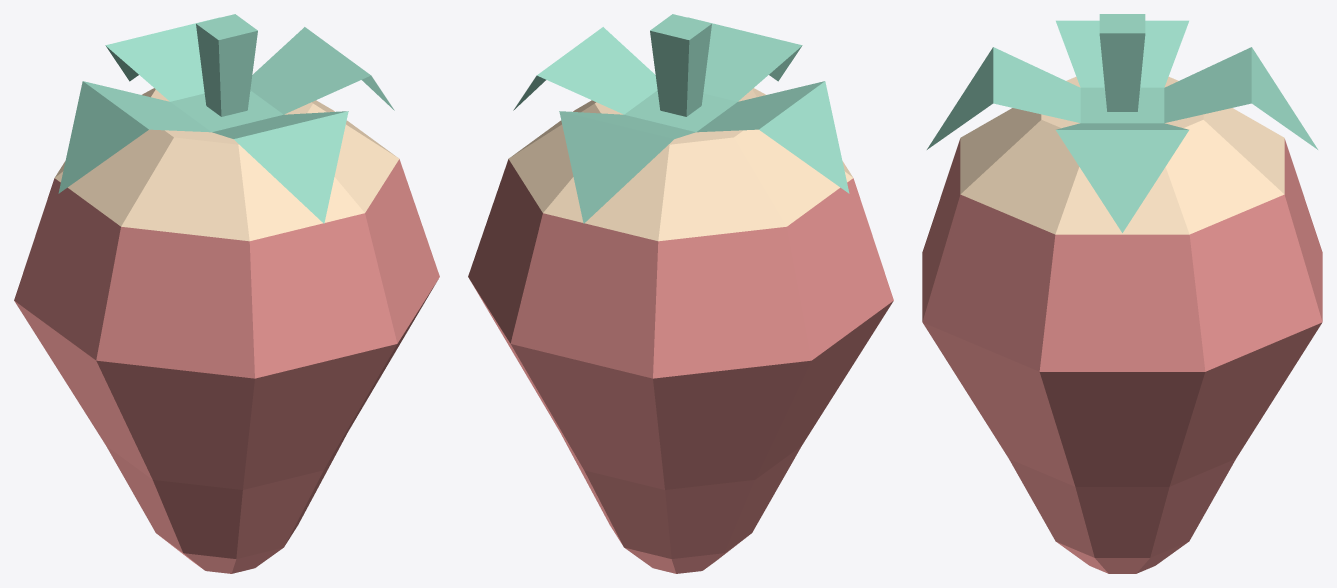
The model's file is fresa.glb.
3 views of the same model, side by side, from view 1: azimuth 30°, elevation 25°; view 2: azimuth 150°, elevation 25°; view 3: azimuth 270°, elevation 25° (orthographic).
Visible parts, largest first — view 1: strawberry.001; view 2: strawberry.001; view 3: strawberry.001.
Part boxes in pixels (x1,y1,x2,y2): strawberry.001: (14,14,439,573); strawberry.001: (468,14,893,573); strawberry.001: (922,14,1322,573).
Size of the model in its own units: 0.1197 by 0.177 by 0.1197.
